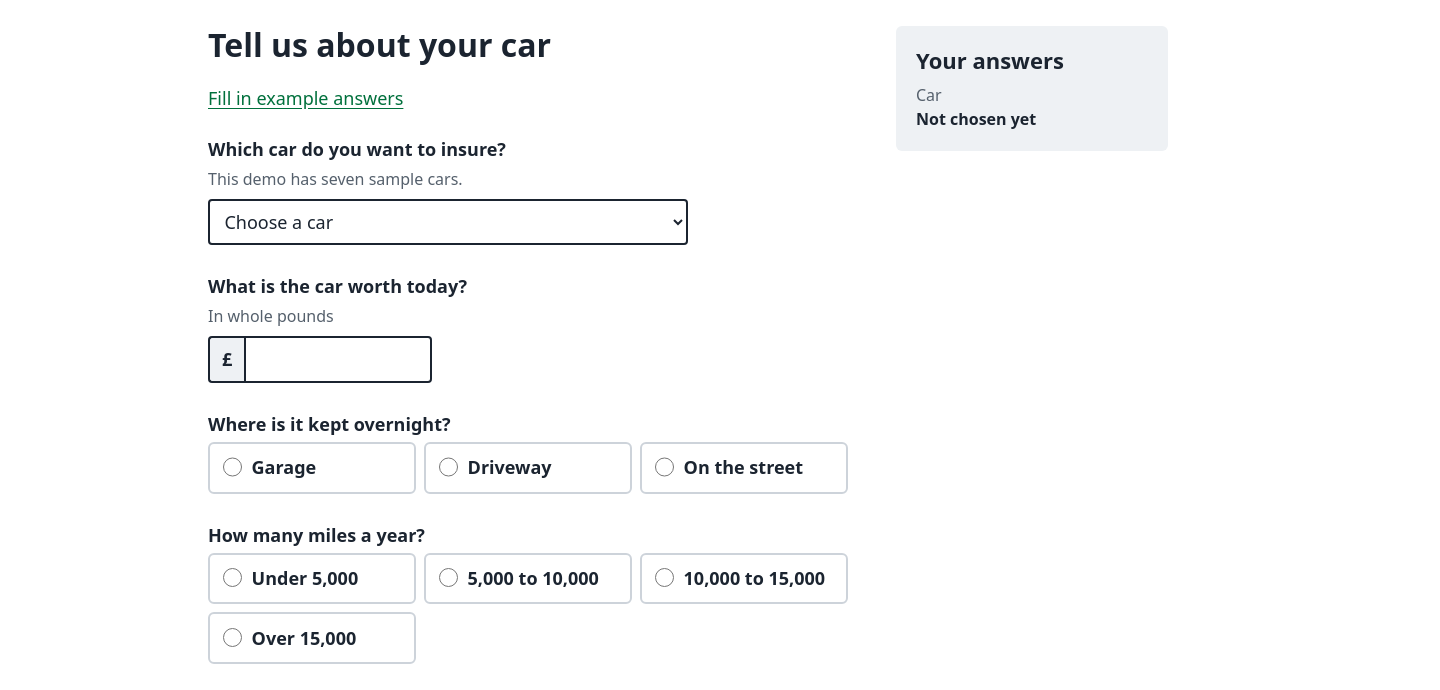
Test: when the server refuses an answer the browser let through (400) › puts the server’s message on its field and takes the person back to that step
Click the button "Fill in example answers": x=306, y=98 208,81 -> 403,116
(page scrolled)
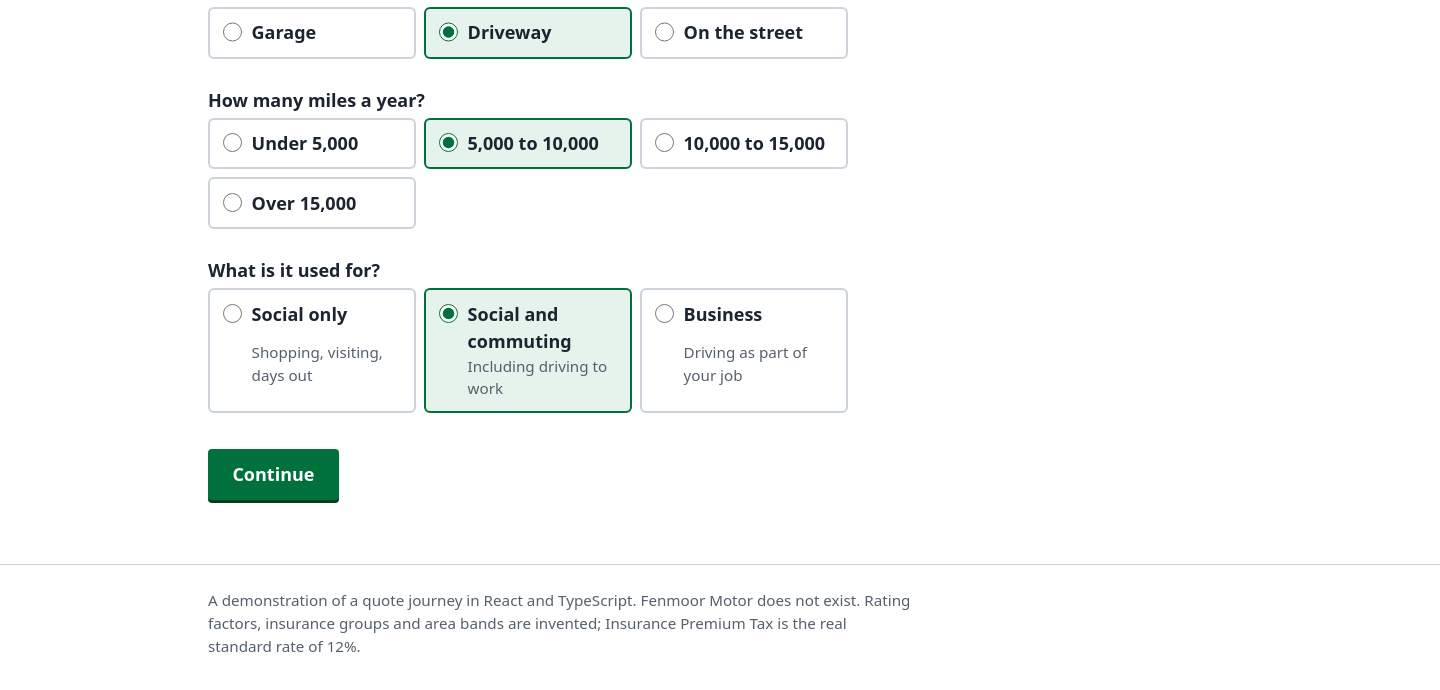
Click the button "Continue": x=273, y=474 208,448 -> 339,500
(page scrolled)
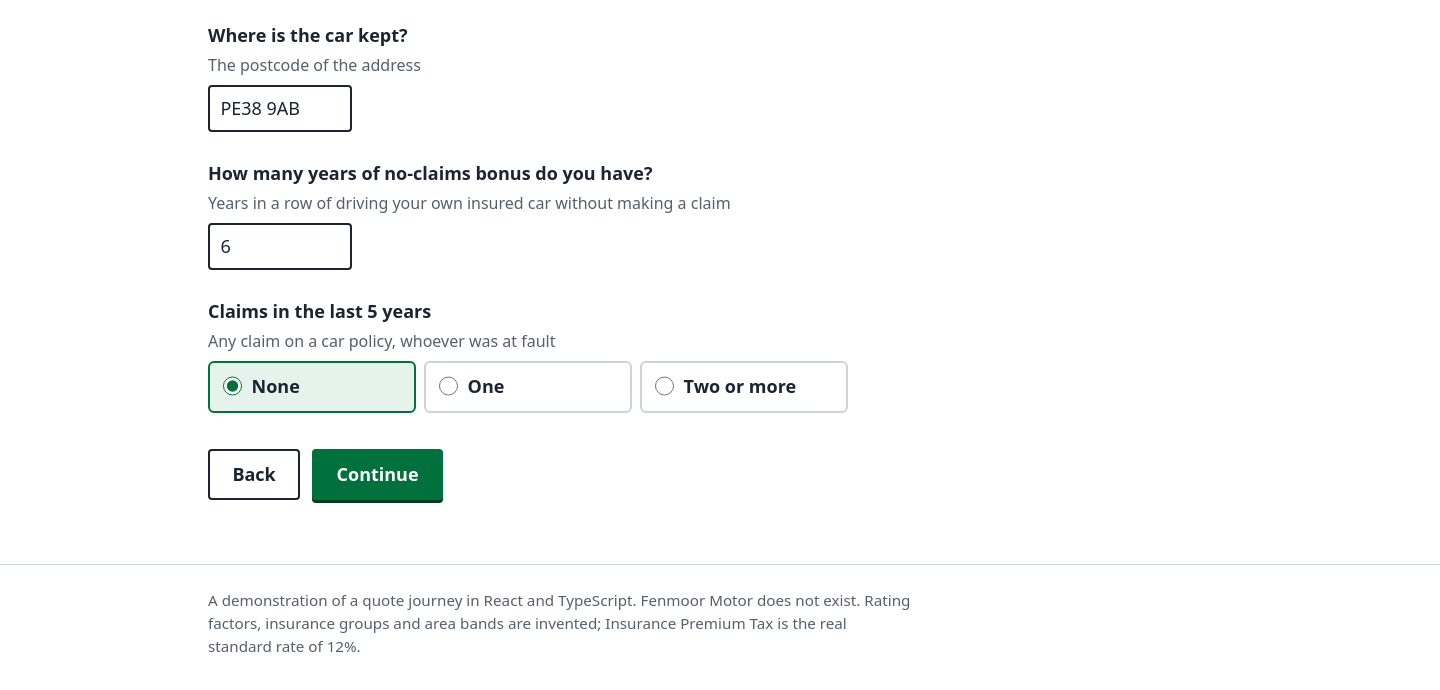
Click the button "Continue": x=378, y=474 312,449 -> 443,500
(page scrolled)
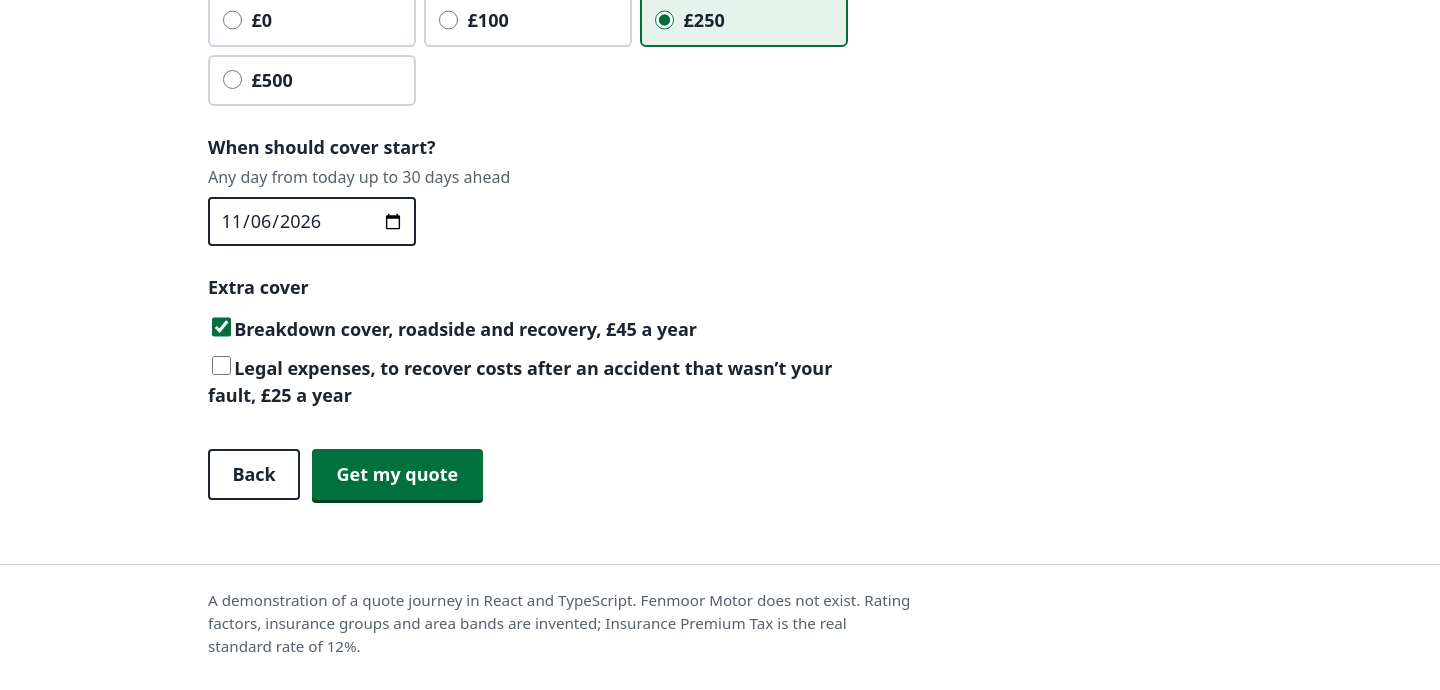
Click the button "Get my quote": x=397, y=475 312,449 -> 483,500
(page scrolled)
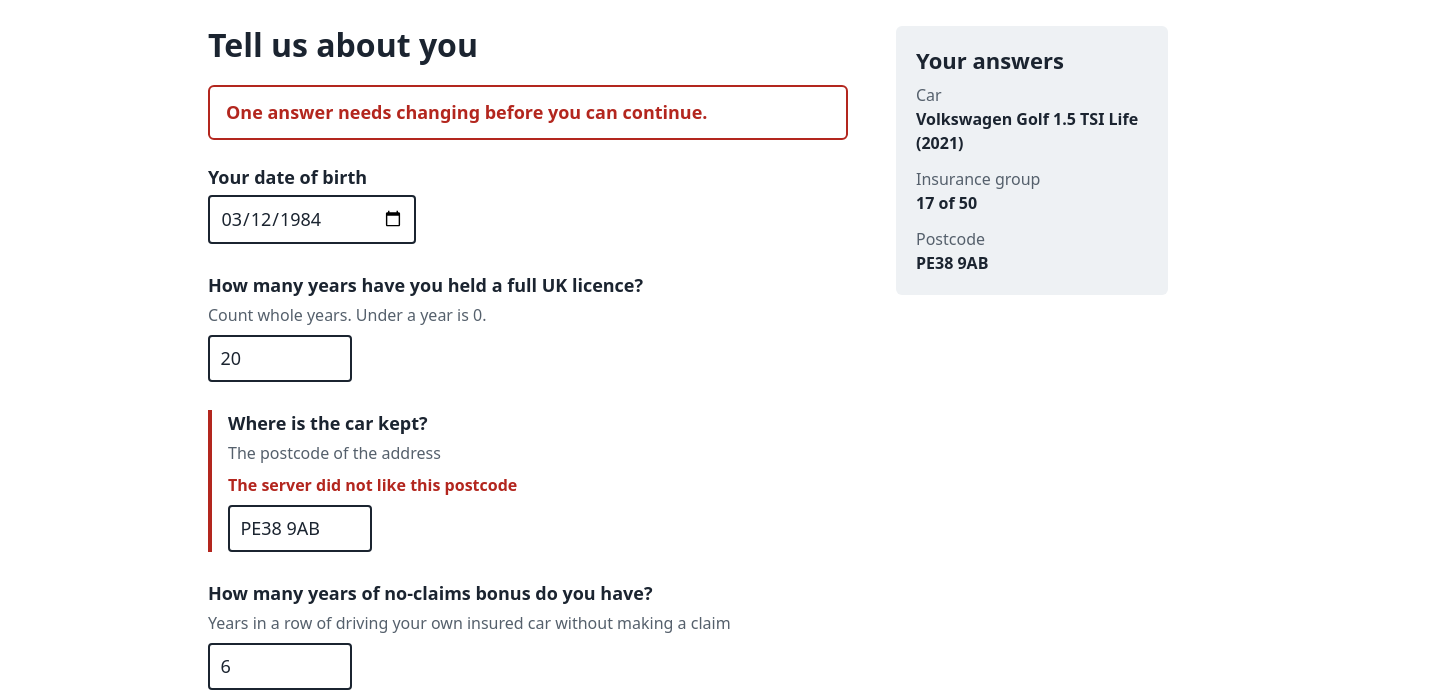
Expected: the heading "Tell us about you" is shown, 208,23 -> 478,66
Expected: the text "The server did not like this postcode" is shown, 228,474 -> 517,496
Expected: the message shows "One answer needs changing", 208,85 -> 848,140
